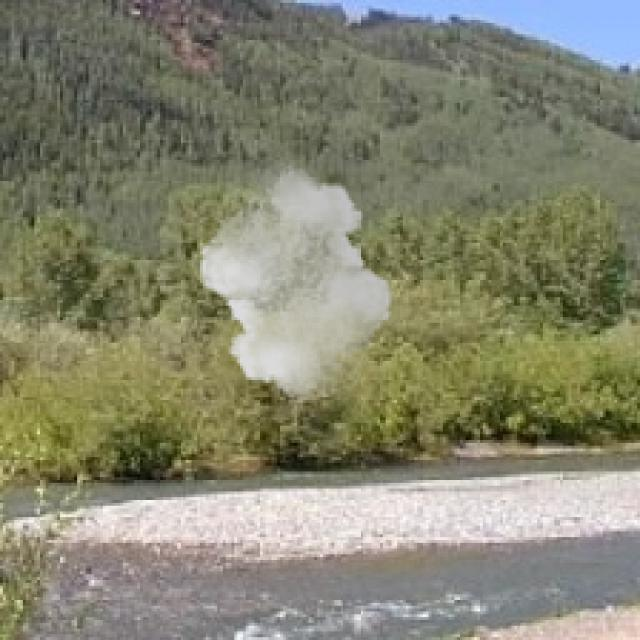Smoke: (191, 163, 400, 403)
